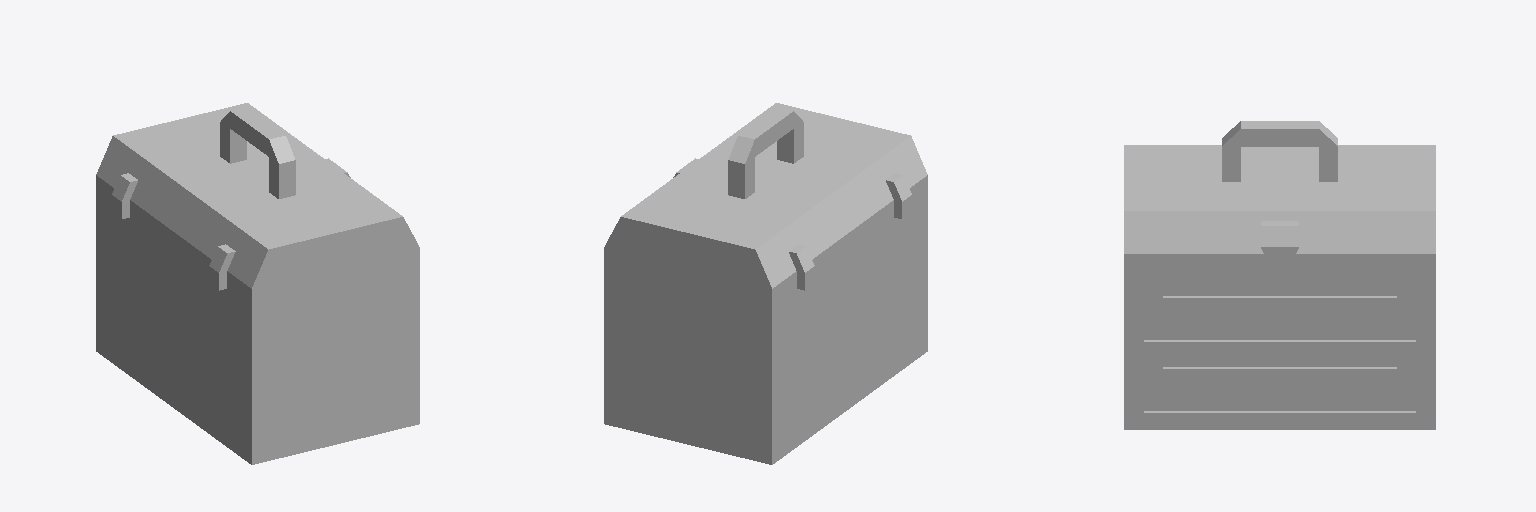
File: toolbox.obj
The picture shows the model from 3 angles: view 1: azimuth 30°, elevation 25°; view 2: azimuth 150°, elevation 25°; view 3: azimuth 270°, elevation 25°; orthographic projection.
Parts seen in each view (by area): view 1: cube; view 2: cube; view 3: cube.
Boxes of the visible parts, x1,y1,x2,y2 form: cube: [96, 103, 419, 464]; cube: [604, 103, 927, 464]; cube: [1124, 121, 1435, 429].
Bounding box in the file's own units: 0.6719 × 0.9375 × 1.